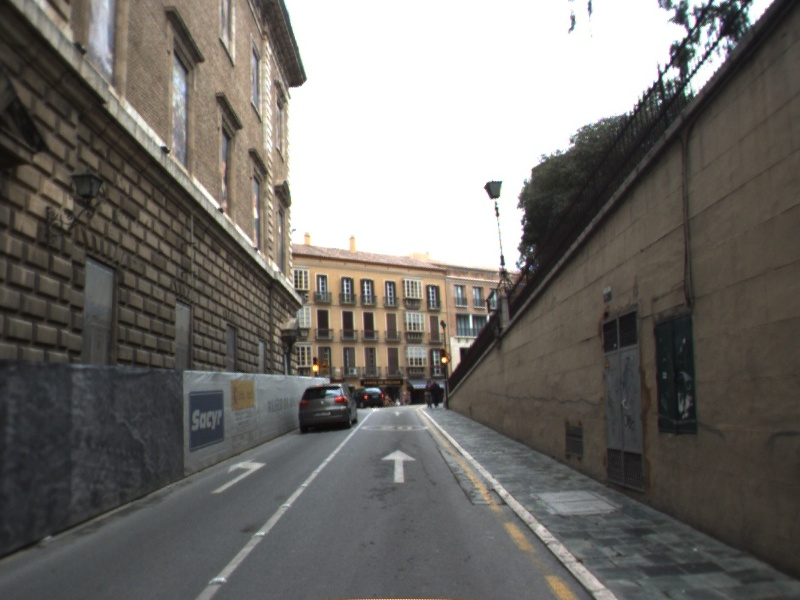LEFT: (209, 456, 269, 495)
STRAIGHT: (379, 448, 418, 485), (390, 409, 405, 418)
